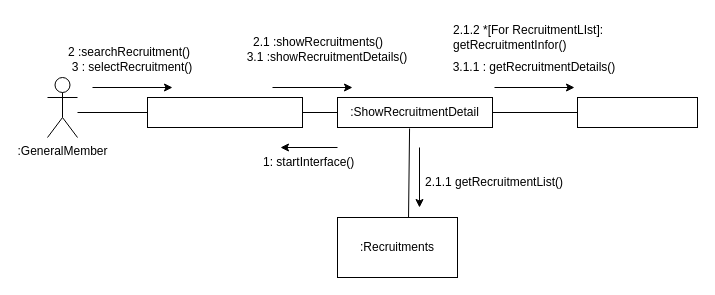
The diagram is 715 pixels wide and 295 high, and some of its shapes have lost their labels. Here are the shapes that lost their labels. From the top down, the centre of each, then its label:
[224,112]: :ShowRecruitmentDetailUI
[637,112]: :Recruitment
